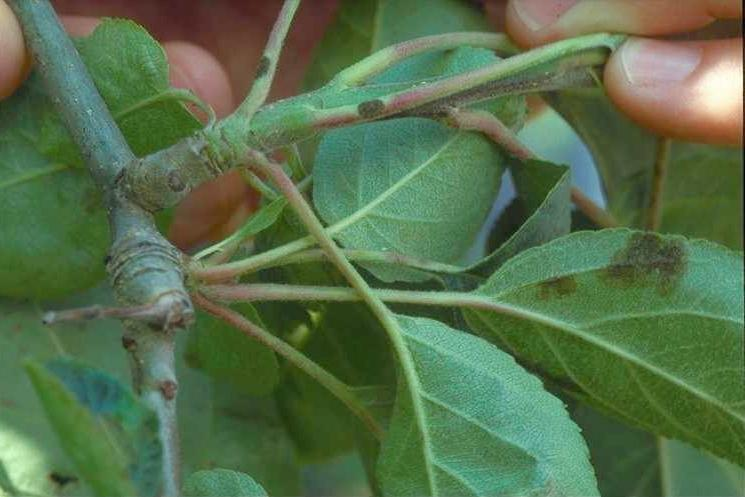Apple Scab Leaf: (471, 223, 745, 441)
